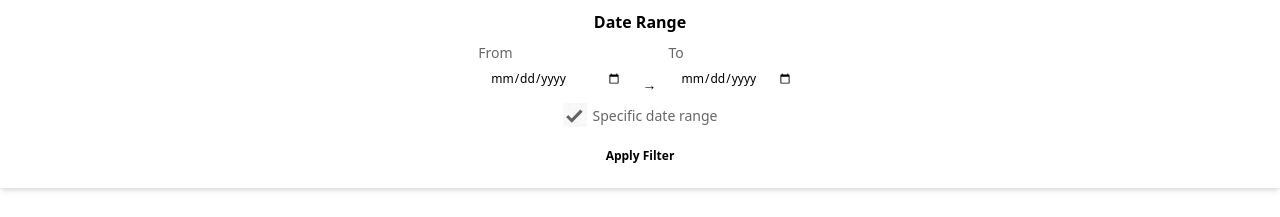
Scenario: DatePicker › enables apply button when month and year are selected
Switch to month/year mode first
Click the checkbox labelled "Specific date range" at (574,115), box [562,103,586,127]
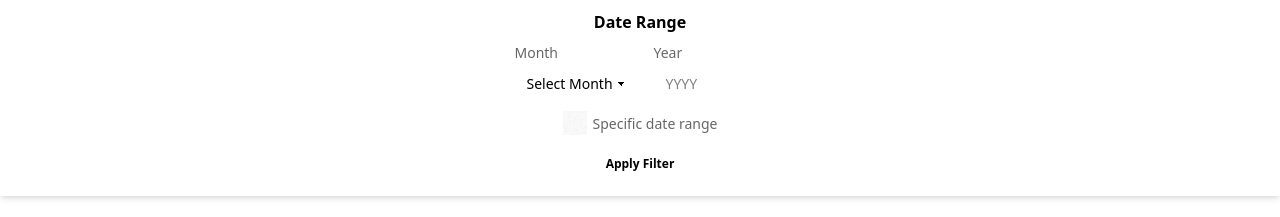
Expected: the button "Apply Filter" is disabled, [591,148,689,180]
Select "January" in the dropdown showing "Select Month" at (578,83), box [514,63,642,103]
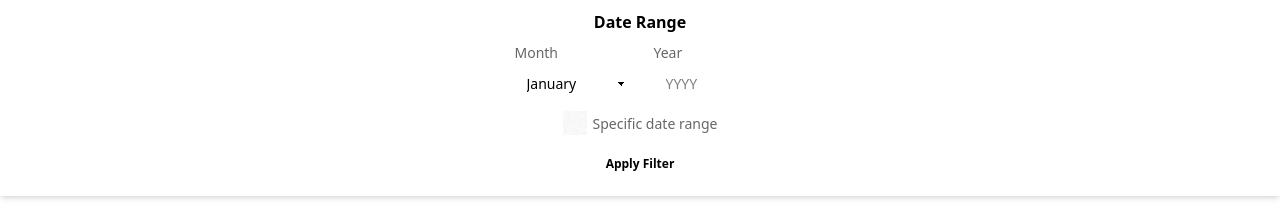
Type "2024" into the number field with placeholder "YYYY" at (710,83), box [654,63,766,103]
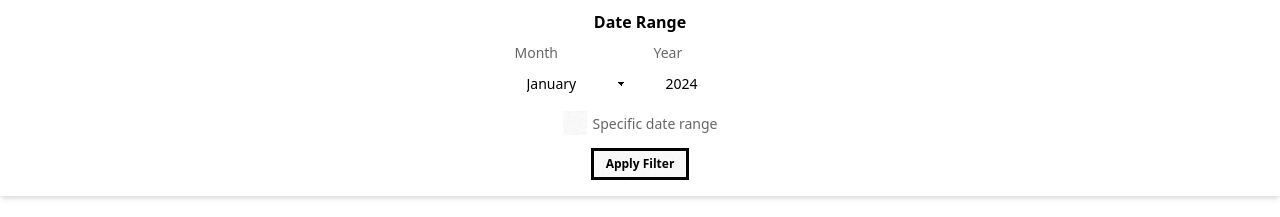
Now the button "Apply Filter" is enabled, box [591,148,689,180]
